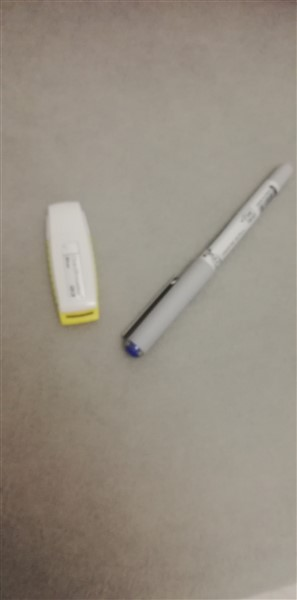flash disk: (39, 194, 107, 330)
pilot kalem: (122, 158, 297, 362)
